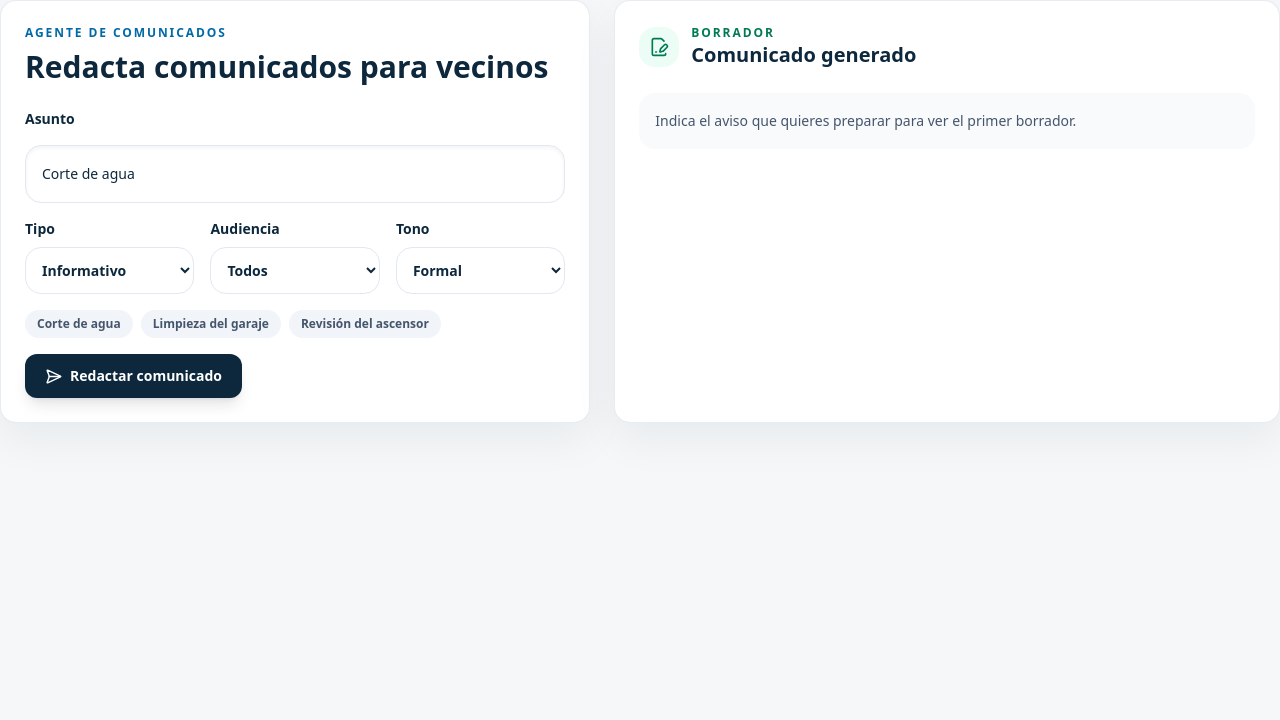
Test case: CommunityNoticePanel › copia el asunto y cuerpo editados al portapapeles
Click the button "Redactar comunicado".
click(134, 376)  # box [25, 354, 242, 398]
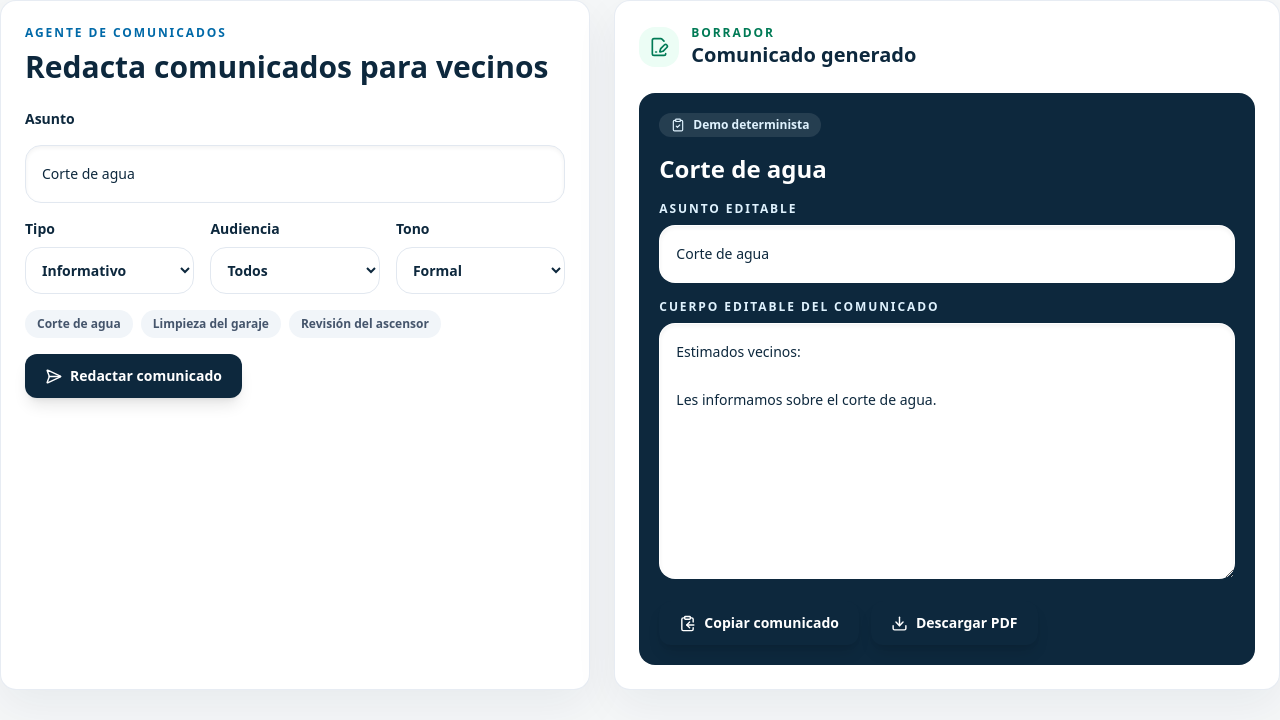
Replace the text in the field labelled "Asunto editable" with "Corte de agua actualizado" at (947, 254), box [659, 225, 1235, 283]
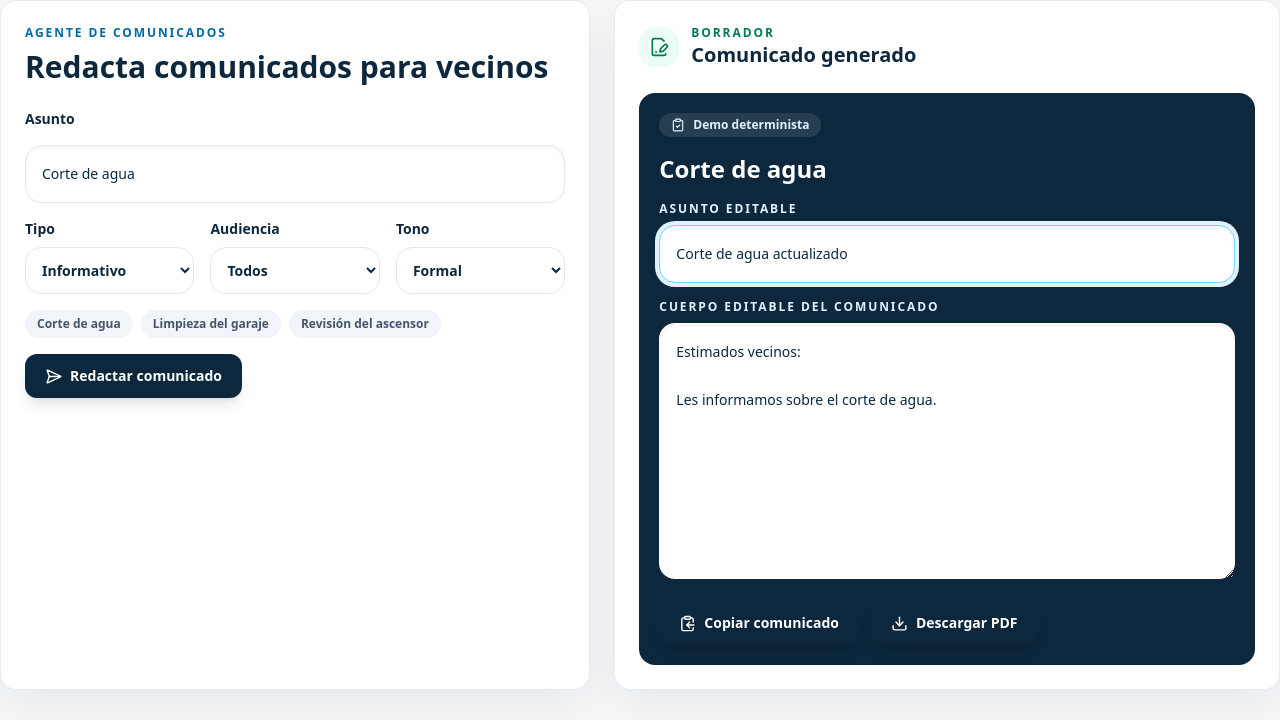
Replace the text in the text box labelled "Cuerpo editable del comunicado" with "Contenido editado para copiar." at (947, 451), box [659, 323, 1235, 579]
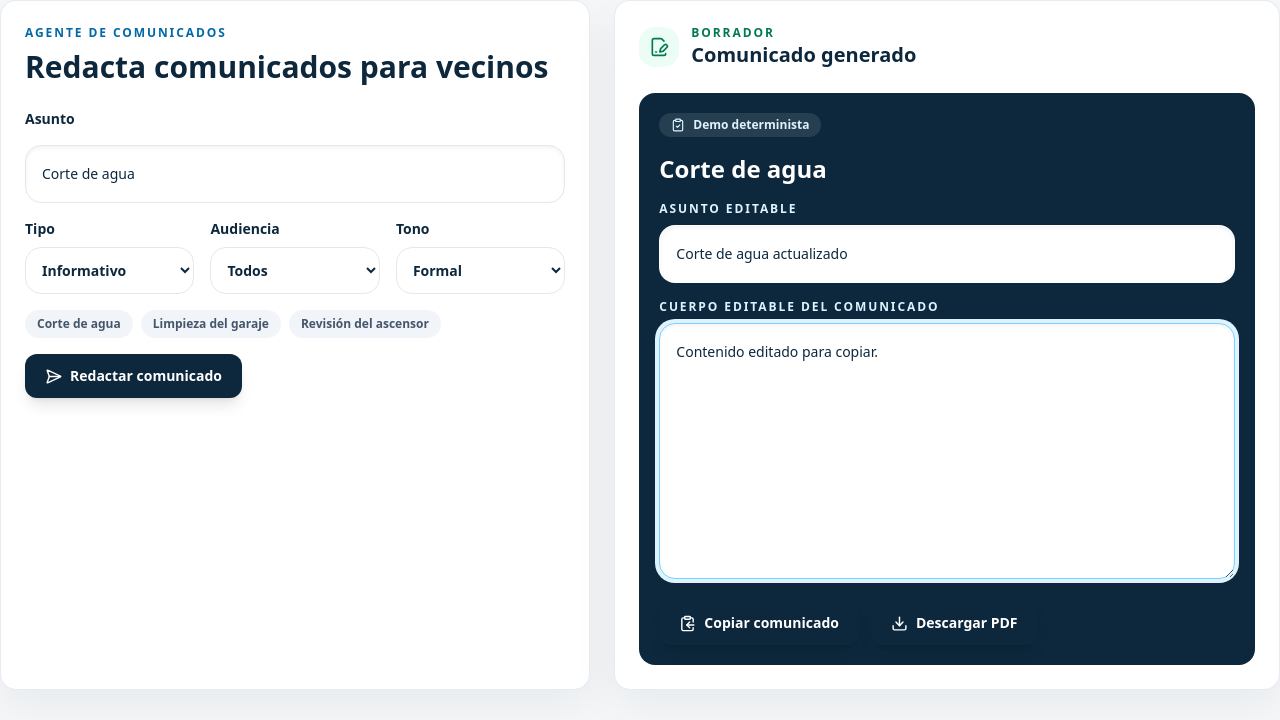
Click the button "Copiar comunicado".
click(759, 623)  # box [659, 601, 859, 645]
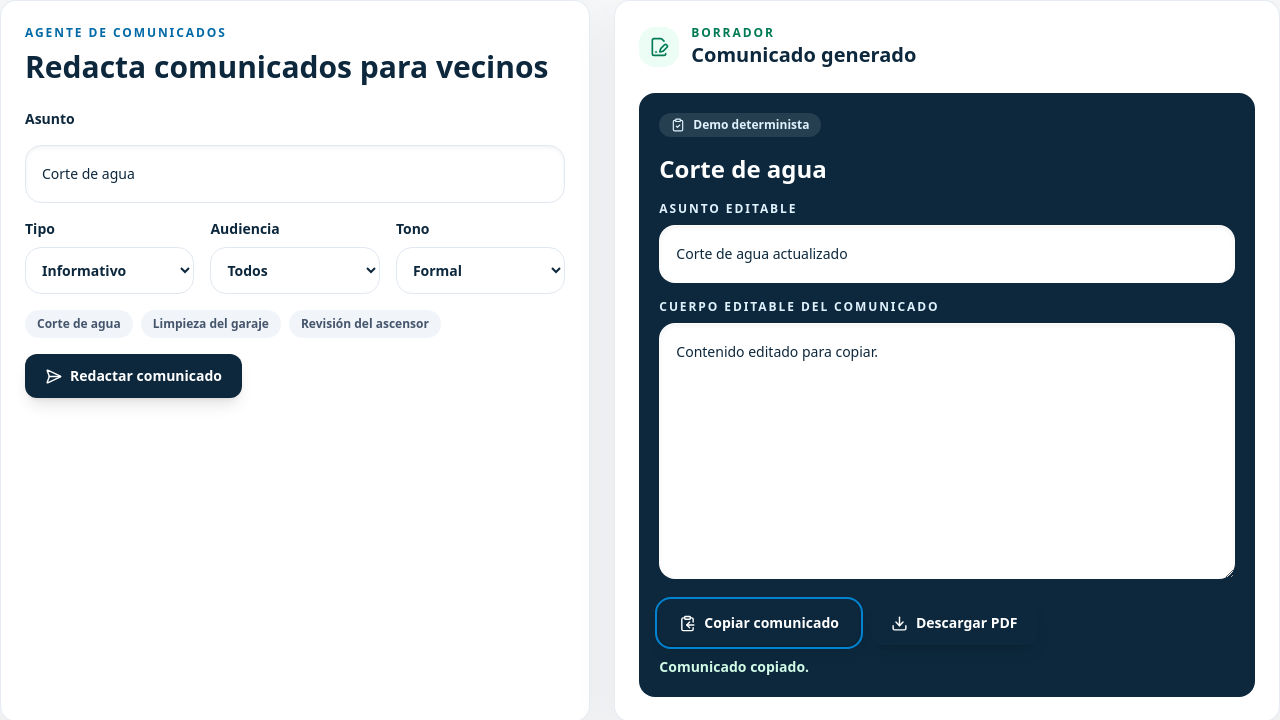
Check: the text "Comunicado copiado." is shown, box [659, 657, 809, 676]
